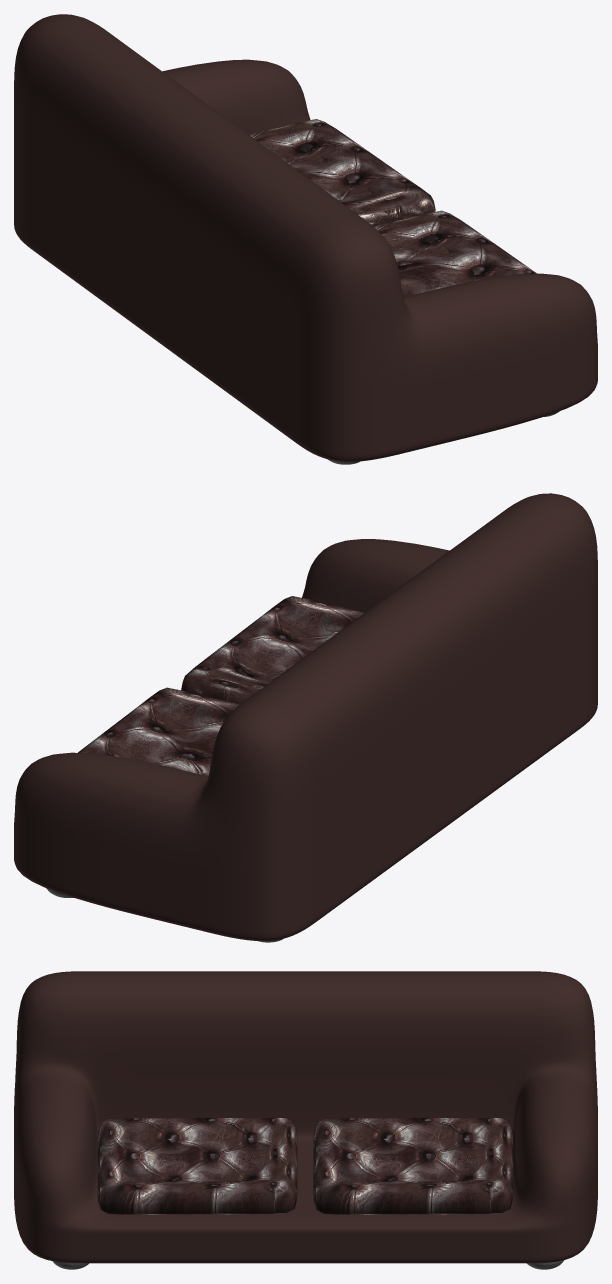
File: couch.glb
The picture shows the model from 3 angles, top to bottom: view 1: azimuth 30°, elevation 25°; view 2: azimuth 150°, elevation 25°; view 3: azimuth 270°, elevation 25°; orthographic projection. The views are drawn at different scales.
Parts seen in each view (by area): view 1: Sofa, Plane.027, Plane.028; view 2: Sofa, Plane.028, Plane.027; view 3: Sofa, Plane.027, Plane.028.
Boxes of the visible parts, left/top/right/bottom form: Sofa: left=14, top=14, right=597, bottom=461; Plane.027: left=249, top=119, right=435, bottom=226; Plane.028: left=374, top=210, right=536, bottom=296; Sofa: left=14, top=493, right=597, bottom=941; Plane.028: left=181, top=596, right=363, bottom=704; Plane.027: left=78, top=687, right=239, bottom=776; Sofa: left=14, top=971, right=597, bottom=1263; Plane.027: left=313, top=1118, right=513, bottom=1214; Plane.028: left=97, top=1118, right=297, bottom=1214.
Bounding box in the file's own units: 1.5 × 1.16 × 3.
3 materials, 1 textured.
